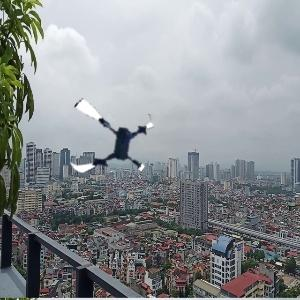drone: (62, 93, 155, 186)
